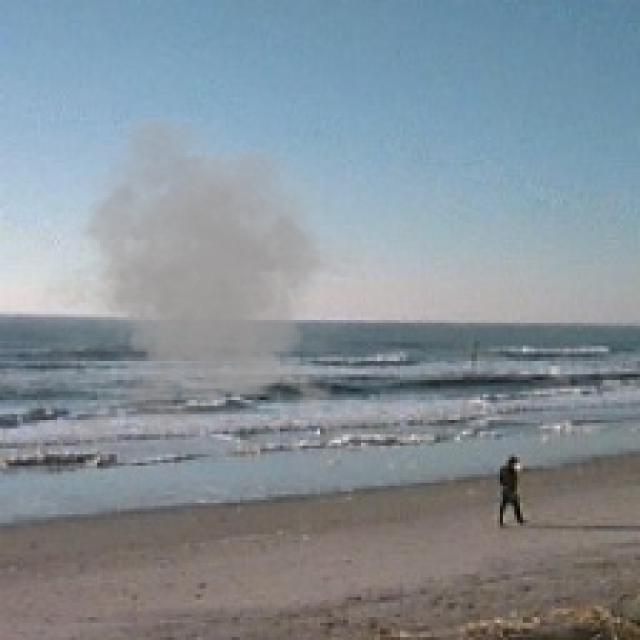Smoke: (23, 112, 386, 457)
